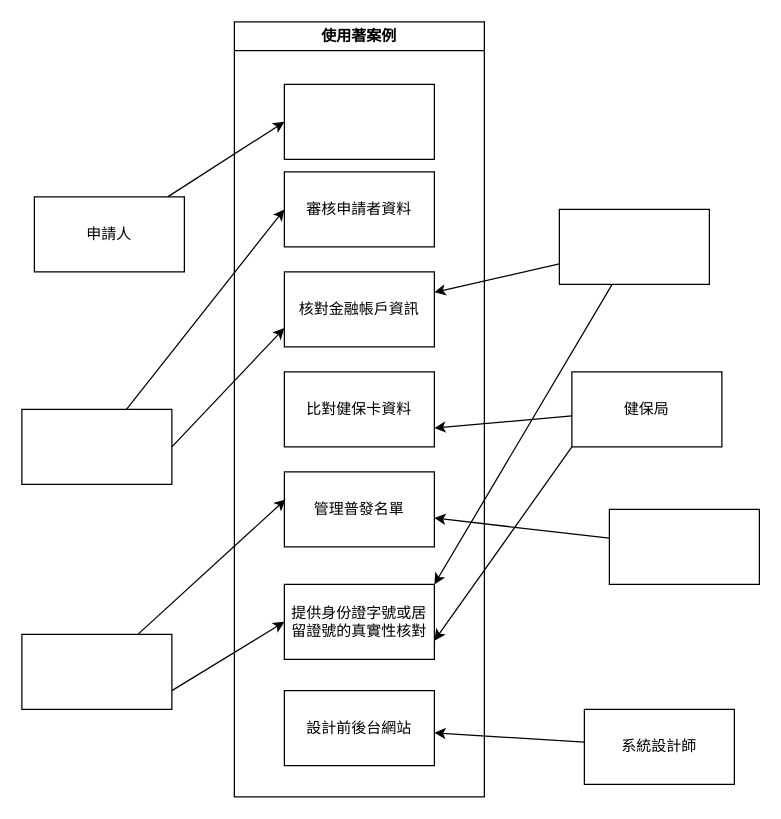
The diagram is 781 pixels wide and 819 high, and some of its shapes have lost their labels. Here are the shapes that lost their labels. From the top down, the box of each, then its label:
(283, 83, 434, 159): 申請人填寫資料
(558, 208, 709, 284): 第三方金融機構
(21, 408, 172, 484): 政府審核人員
(608, 508, 759, 584): 金融負責單位
(21, 633, 172, 709): 戶政系統
